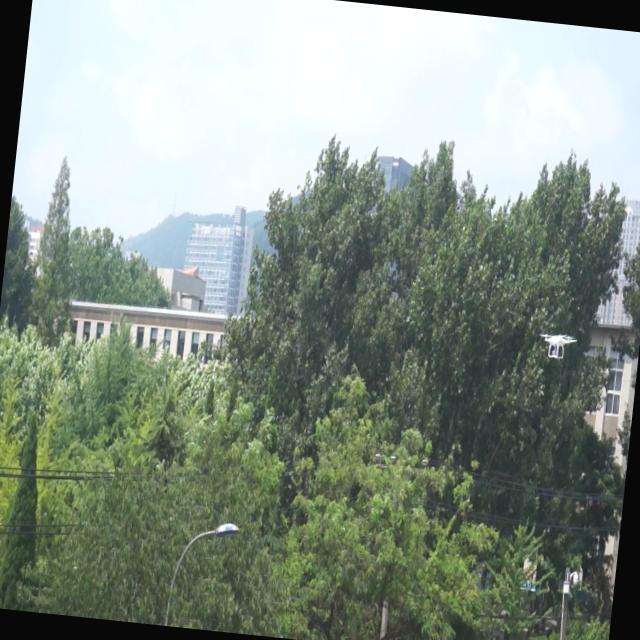drone: (533, 326, 577, 366)
